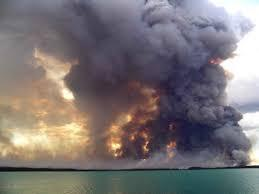smoke: (0, 0, 252, 165)
